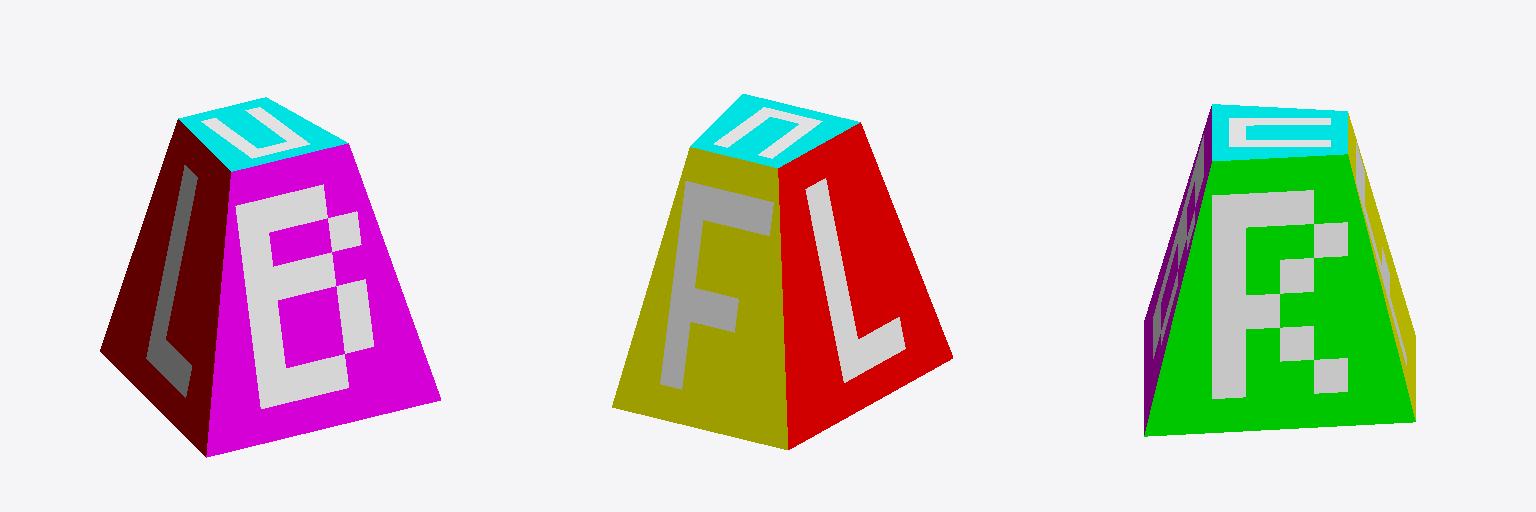
3 renders of one model, left to right at view 1: azimuth 30°, elevation 25°; view 2: azimuth 150°, elevation 25°; view 3: azimuth 270°, elevation 25°, orthographic.
Visible parts, largest first — view 1: Cube; view 2: Cube; view 3: Cube.
Part boxes in pixels (left/top/right/bottom): Cube: left=100, top=97, right=440, bottom=457; Cube: left=612, top=94, right=952, bottom=449; Cube: left=1144, top=104, right=1415, bottom=436.
Size of the model in its own units: 2 by 2 by 2.
1 materials, 1 textured.